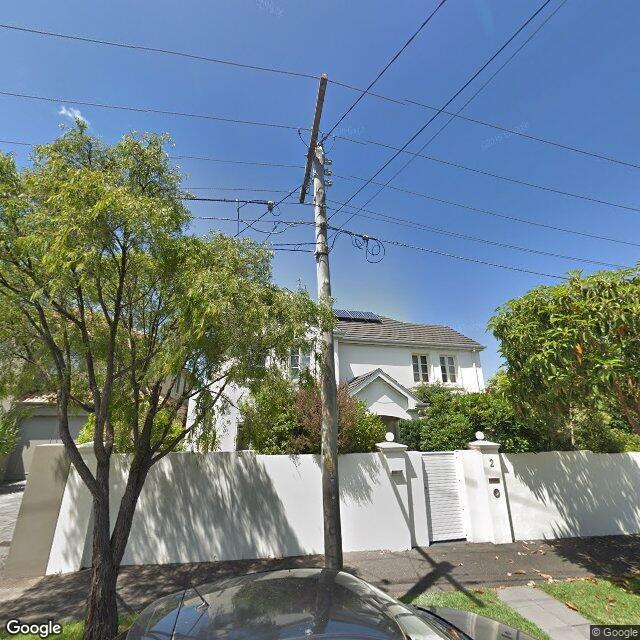crossarm: (300, 73, 328, 205)
timber-pole: (313, 144, 343, 572)
